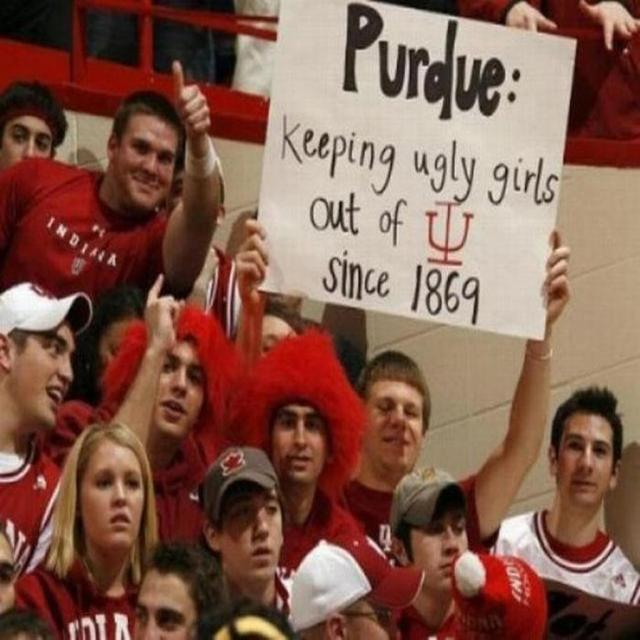nomask: (119, 104, 179, 208), (84, 456, 148, 545), (21, 323, 75, 428), (409, 501, 469, 592), (222, 488, 282, 576), (365, 377, 421, 468), (152, 346, 202, 440), (276, 399, 322, 482), (135, 576, 194, 640), (562, 414, 608, 496), (0, 115, 51, 187)
